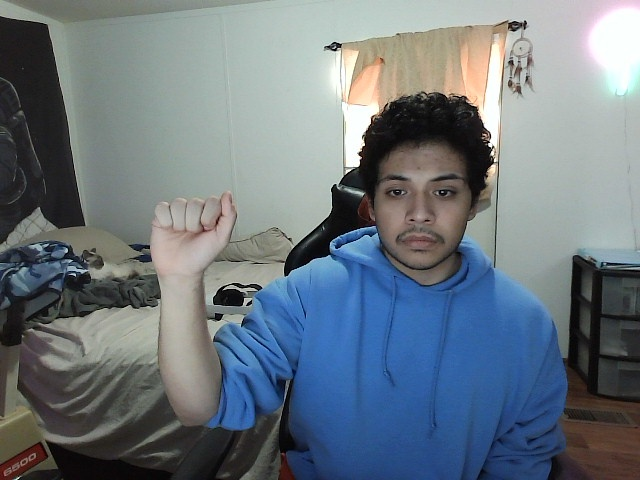A: (147, 188, 240, 275)
